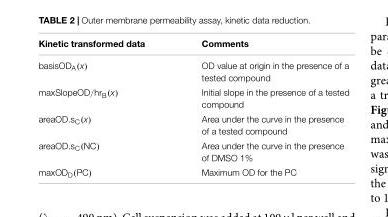table: (37, 37, 348, 177)
table column: (172, 37, 348, 177), (37, 37, 172, 177)
table column header: (37, 37, 348, 53)
table row: (37, 53, 348, 84), (37, 110, 348, 137), (37, 137, 348, 164), (37, 84, 348, 110), (37, 37, 348, 53), (37, 164, 348, 177)
